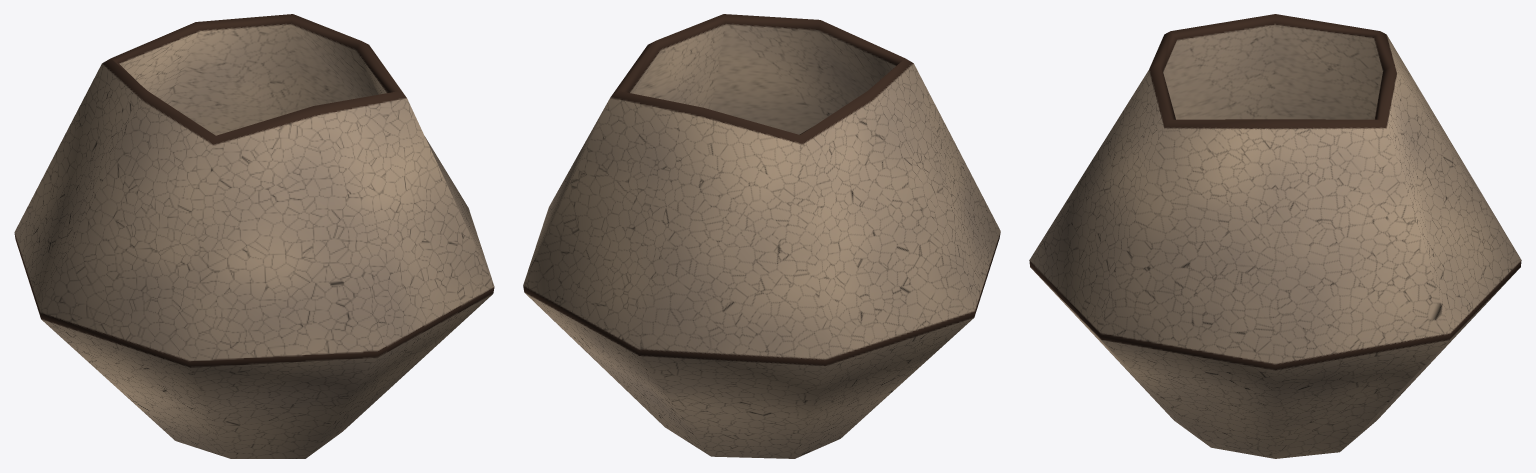
The model's file is tubo.fbx.
3 views of the same model, side by side, from view 1: azimuth 30°, elevation 25°; view 2: azimuth 150°, elevation 25°; view 3: azimuth 270°, elevation 25° (orthographic).
Visible parts, largest first — view 1: tubo; view 2: tubo; view 3: tubo.
Part boxes in pixels (<box>): tubo: <box>14,14,494,458</box>; tubo: <box>523,14,1000,458</box>; tubo: <box>1029,14,1521,458</box>.
Bounding box in the file's own units: 0.175 × 0.14 × 0.175.
